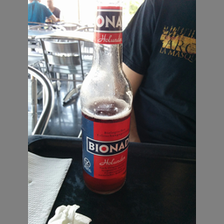soda: (76, 1, 134, 197)
